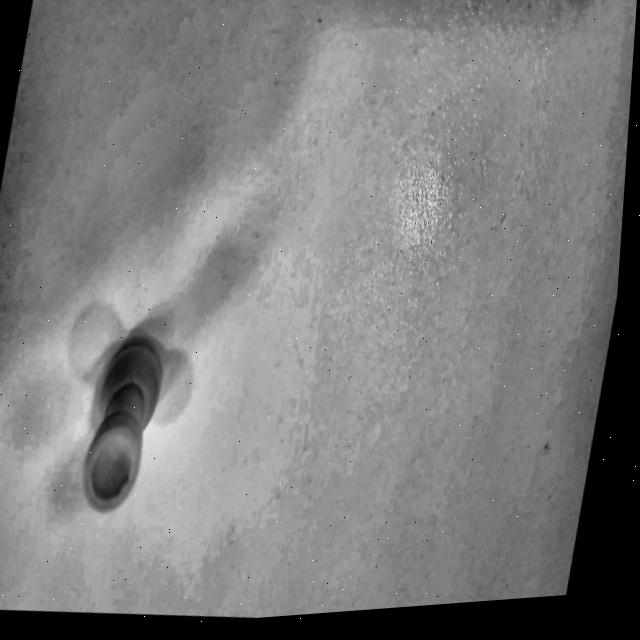white-rook: (70, 308, 188, 511)
